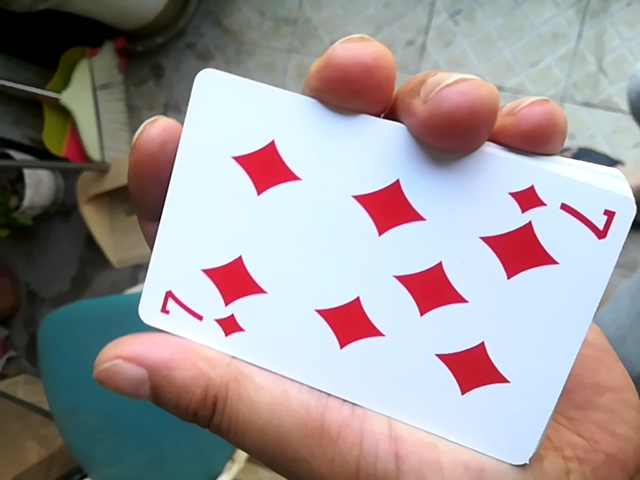fk 7: (115, 61, 634, 467)
